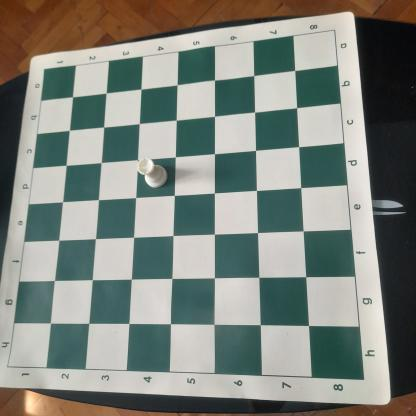white-rook: (135, 157, 174, 190)
